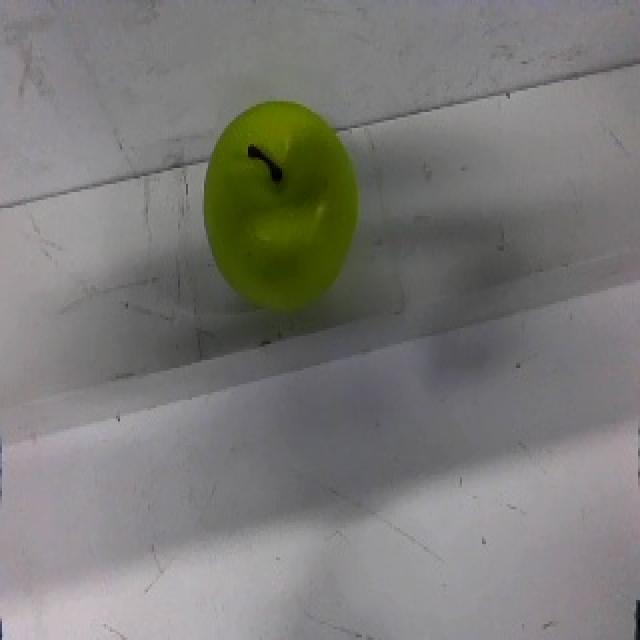apple: (202, 97, 361, 322)
